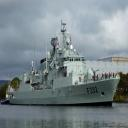Fragata: (8, 19, 122, 109)
